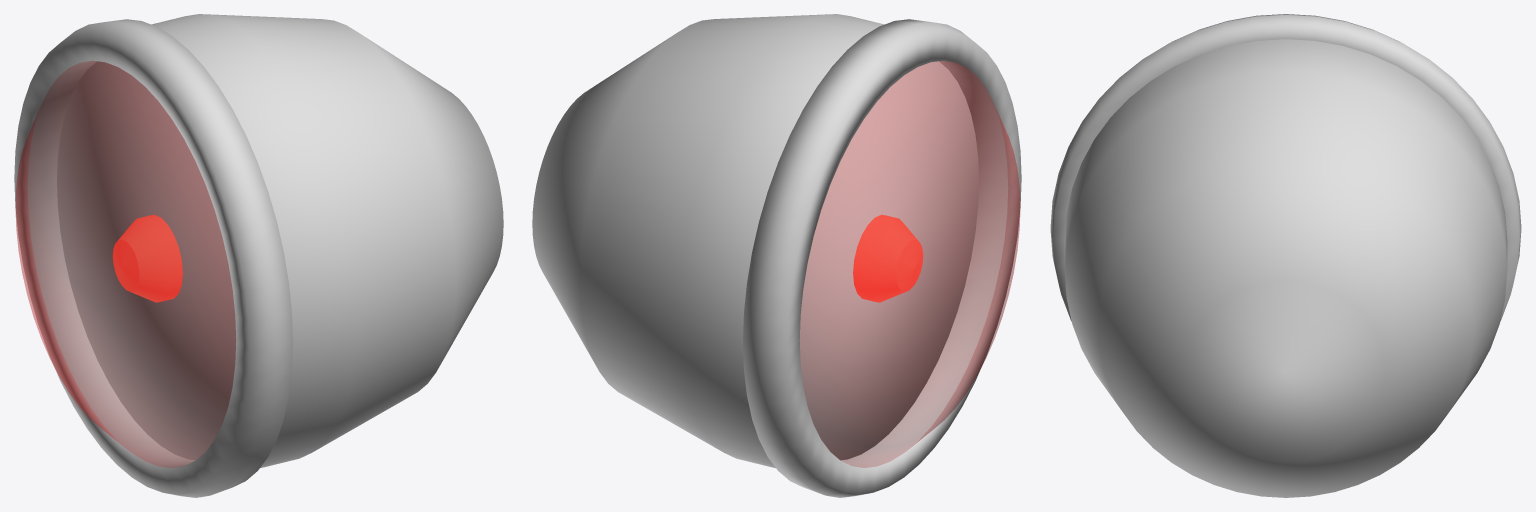
The model's file is round.glb.
3 views of the same model, side by side, from view 1: azimuth 30°, elevation 25°; view 2: azimuth 150°, elevation 25°; view 3: azimuth 270°, elevation 25° (orthographic). The views are drawn at different scales.
Parts seen in each view (by area): view 1: tail_light_round; view 2: tail_light_round; view 3: tail_light_round.
Boxes of the visible parts, x1,y1,x2,y2 form: tail_light_round: (14,14,503,497); tail_light_round: (532,14,1021,497); tail_light_round: (1050,14,1521,497).
Size of the model in its own units: 0.066 by 0.0724 by 0.0724.
